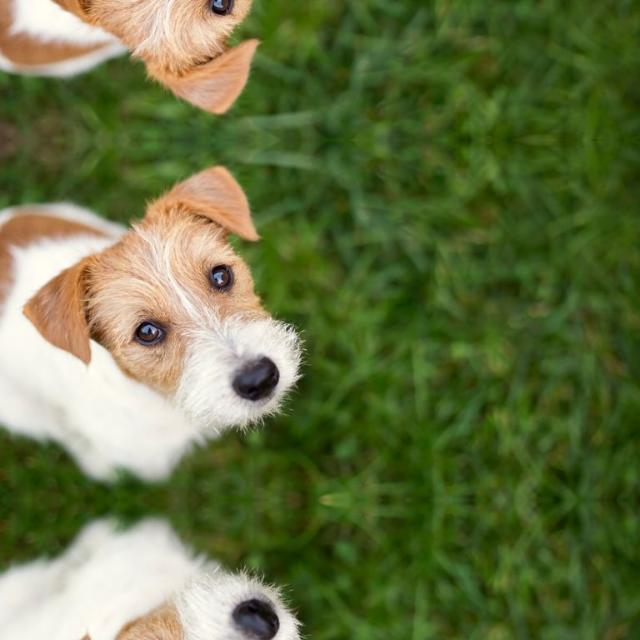dog: (0, 143, 302, 480), (0, 0, 301, 136), (0, 519, 301, 640)
